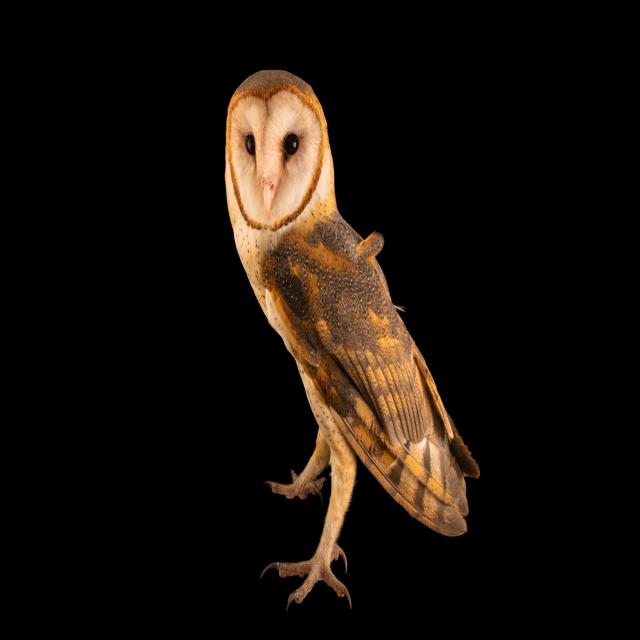owl: (225, 70, 479, 605)
